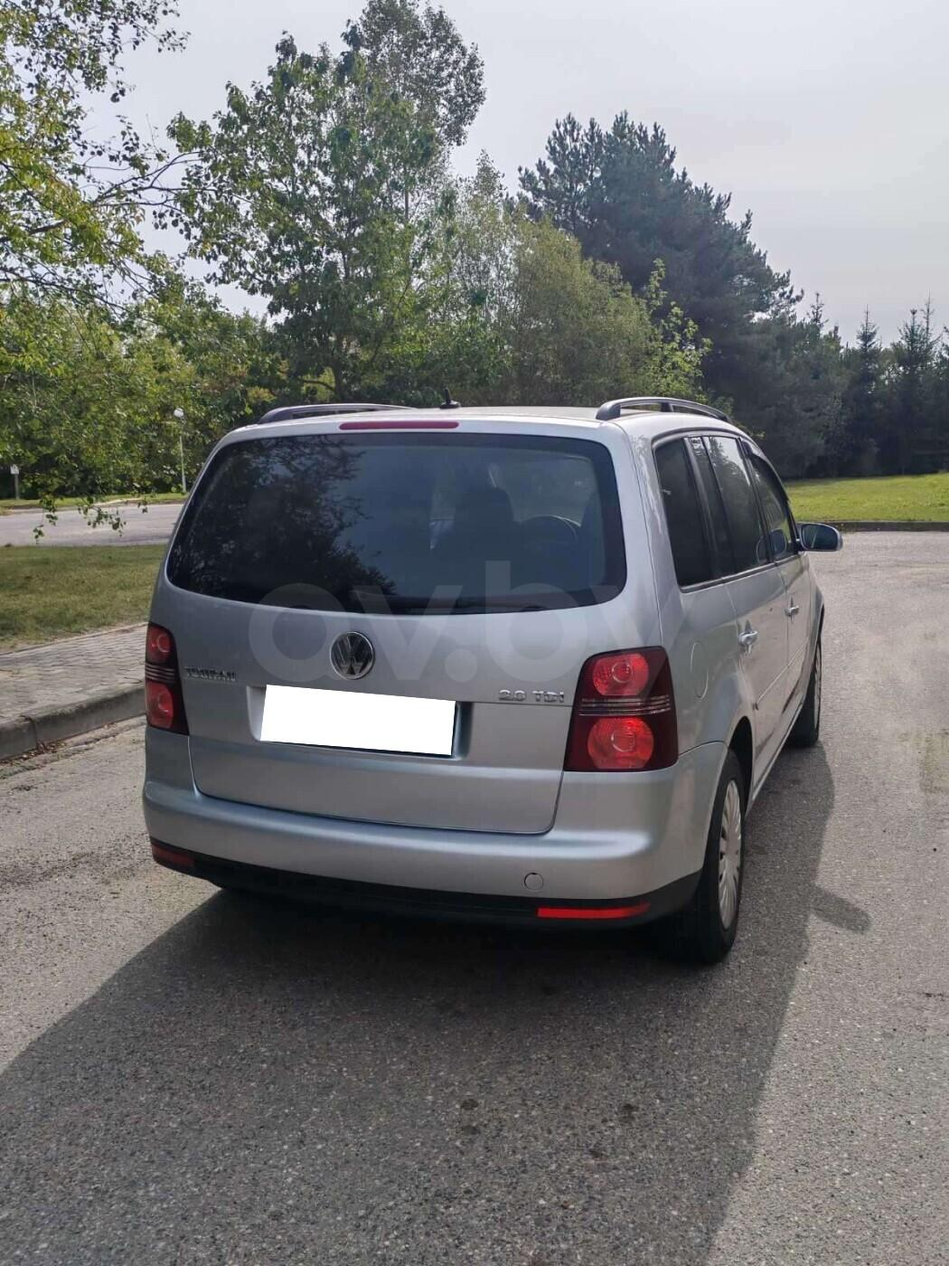Touran_2006-2010: (139, 400, 833, 959)
